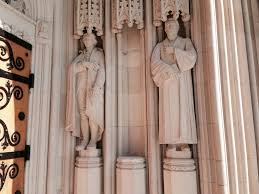person-like: (147, 14, 200, 153), (65, 32, 107, 151)
